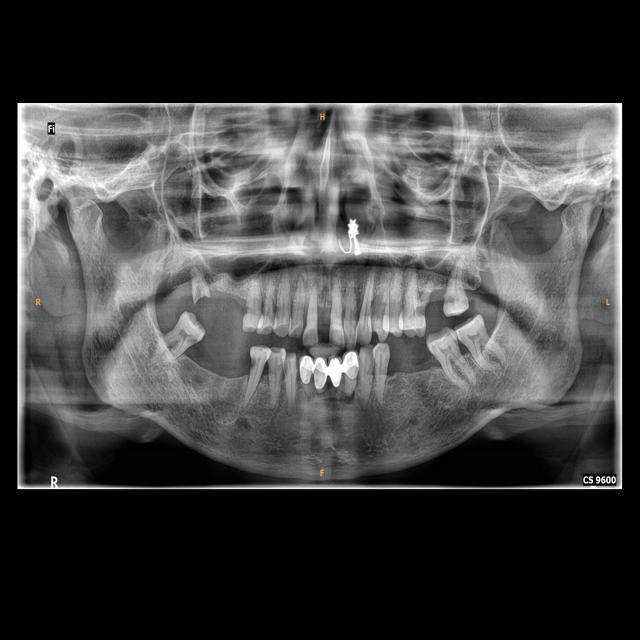dentin-curugu: (250, 351, 263, 381), (412, 300, 427, 323), (444, 292, 458, 310)
kaplama: (313, 356, 329, 388), (298, 356, 315, 384), (330, 356, 344, 388), (344, 351, 359, 380)
kirik: (191, 289, 215, 305)
